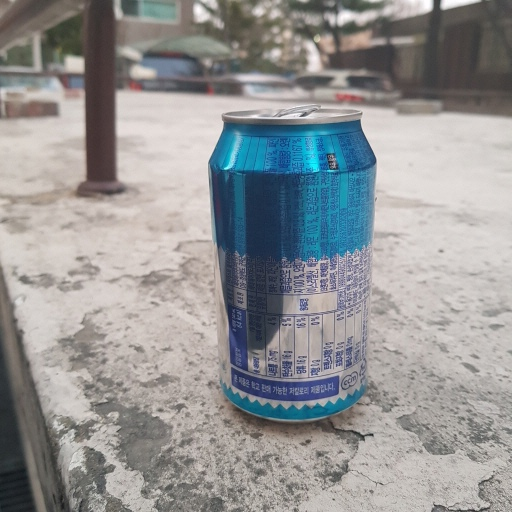Metal_0: (205, 103, 379, 422)
